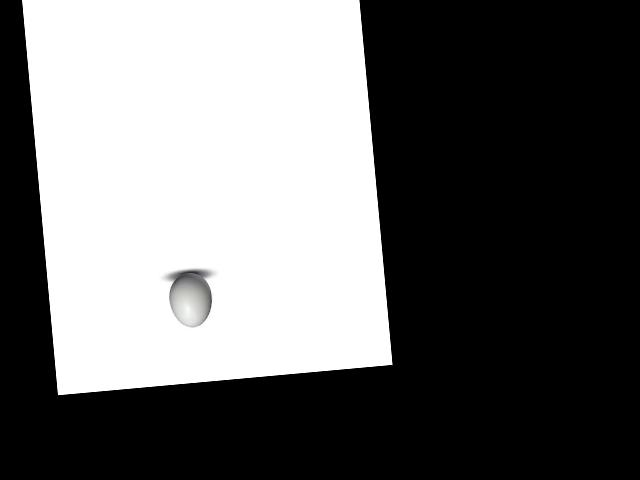egg: (167, 271, 213, 329)
